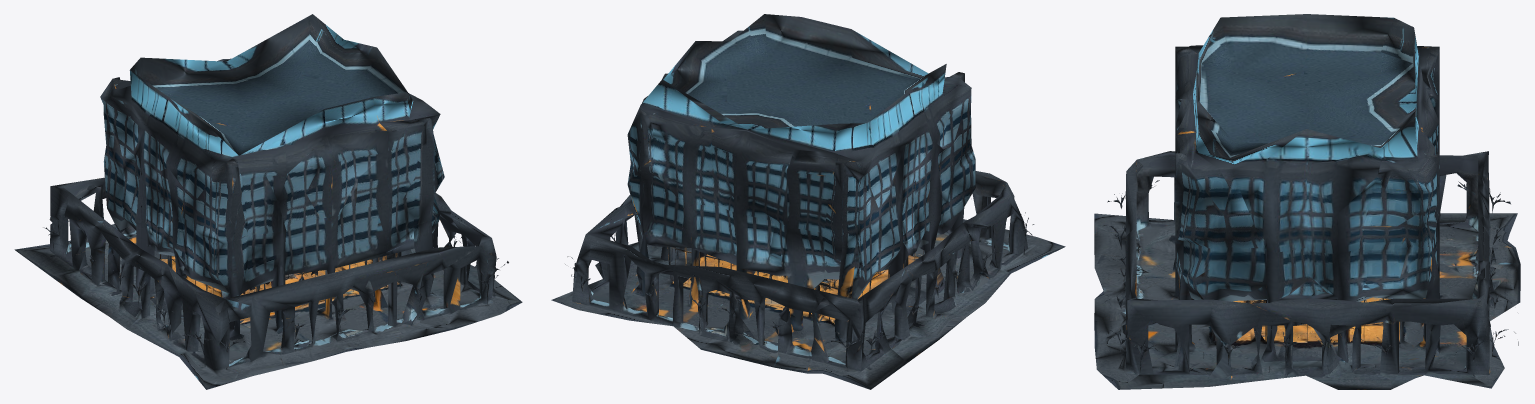
File: co_lawfirm.glb
3 renders of one model, left to right at view 1: azimuth 30°, elevation 25°; view 2: azimuth 150°, elevation 25°; view 3: azimuth 270°, elevation 25°, orthographic. The views are drawn at different scales.
Bounding box in the file's own units: 1.86 × 1.13 × 1.9.
Materials: 1 (1 with a texture image).
